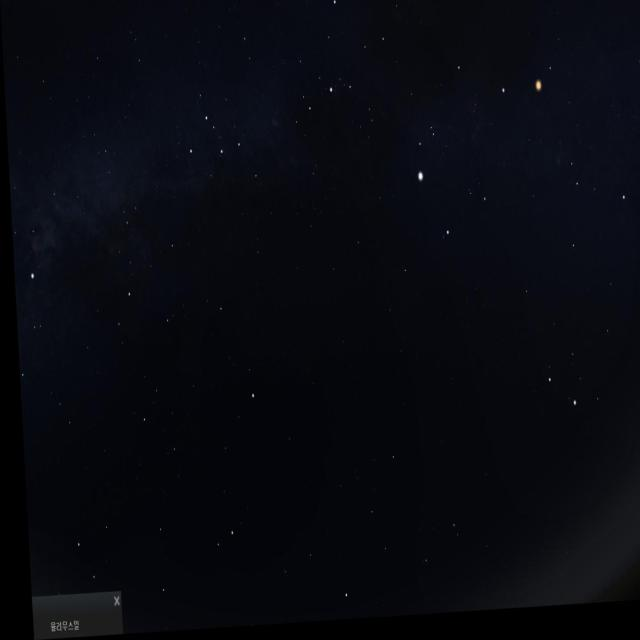cassiopeia: (184, 108, 269, 208)
